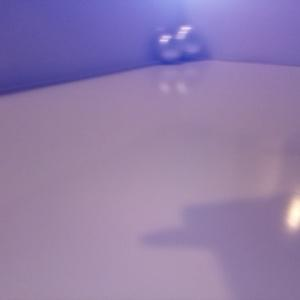alive_ball: (174, 24, 204, 60), (156, 33, 182, 63)
